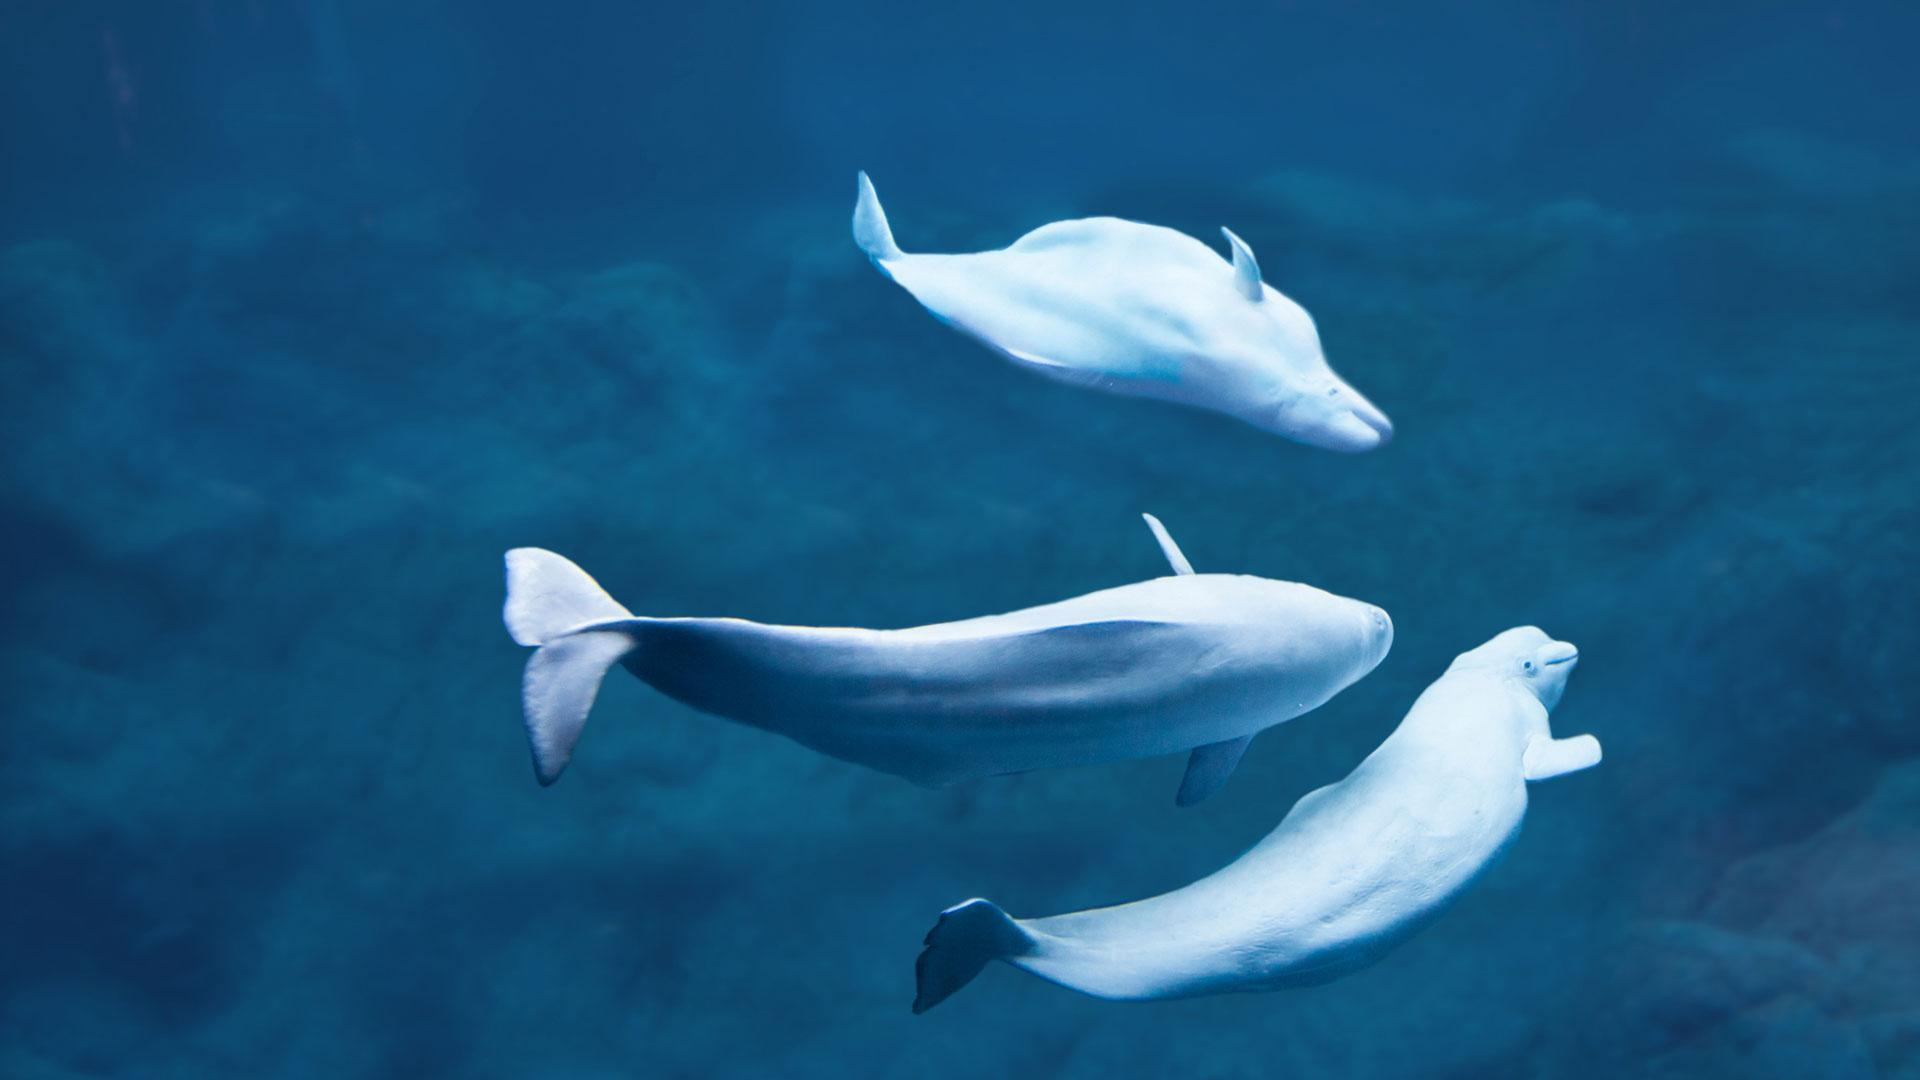fish: (903, 621, 1606, 1034), (488, 537, 1407, 808), (849, 160, 1416, 469)
